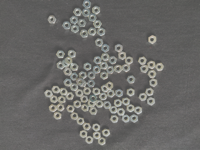nut: (92, 5, 101, 15), (62, 21, 72, 30), (148, 61, 157, 70), (147, 97, 156, 106), (139, 93, 148, 102), (118, 51, 127, 60), (95, 38, 104, 47), (88, 13, 97, 22), (82, 8, 91, 17), (88, 27, 97, 36), (80, 29, 89, 38), (78, 19, 87, 28), (70, 16, 79, 25), (71, 25, 80, 34), (89, 95, 98, 104), (48, 15, 57, 24), (70, 112, 79, 121), (75, 89, 84, 98), (70, 83, 79, 92), (66, 92, 75, 101), (56, 51, 66, 59), (149, 35, 157, 44), (156, 63, 165, 71), (148, 70, 157, 78), (146, 88, 154, 97), (140, 65, 149, 73), (138, 57, 147, 65), (115, 44, 123, 53), (125, 56, 133, 65), (123, 64, 131, 73), (127, 76, 136, 84), (127, 88, 135, 97), (135, 106, 143, 115), (131, 114, 139, 123), (127, 104, 135, 113), (117, 108, 126, 116), (115, 64, 123, 73), (109, 56, 117, 65), (101, 53, 110, 61), (102, 44, 110, 53), (98, 27, 106, 36), (93, 20, 102, 28), (83, 1, 92, 9), (116, 89, 124, 98), (114, 99, 122, 108), (109, 106, 118, 114), (111, 115, 119, 124), (106, 66, 115, 74), (100, 62, 109, 70), (106, 82, 114, 91), (99, 93, 108, 101), (103, 101, 112, 109), (94, 56, 102, 65), (88, 71, 96, 80), (87, 80, 96, 88), (93, 87, 101, 96), (74, 100, 82, 109), (66, 105, 75, 113), (77, 117, 85, 126), (80, 130, 88, 139), (86, 136, 94, 145), (98, 137, 106, 146), (102, 129, 111, 137), (80, 96, 89, 104), (76, 78, 85, 86), (79, 71, 87, 80), (70, 73, 79, 81), (64, 79, 73, 87), (70, 63, 79, 71), (64, 68, 73, 76), (68, 50, 77, 58), (65, 57, 73, 66), (61, 60, 70, 68), (57, 61, 65, 70), (59, 88, 68, 96), (58, 96, 66, 105), (52, 86, 61, 94), (44, 90, 53, 98), (50, 95, 58, 104), (49, 104, 57, 113), (150, 79, 158, 87), (123, 98, 131, 106), (122, 115, 130, 123), (74, 8, 82, 16), (101, 72, 109, 80), (107, 90, 115, 98), (101, 85, 109, 93), (93, 66, 101, 74), (84, 63, 92, 71), (96, 100, 104, 108), (88, 100, 96, 108), (90, 108, 98, 116), (82, 104, 90, 112), (83, 123, 91, 131), (93, 124, 101, 132), (93, 132, 101, 140), (57, 104, 65, 112), (54, 112, 62, 120), (83, 88, 92, 95), (80, 80, 87, 88)
